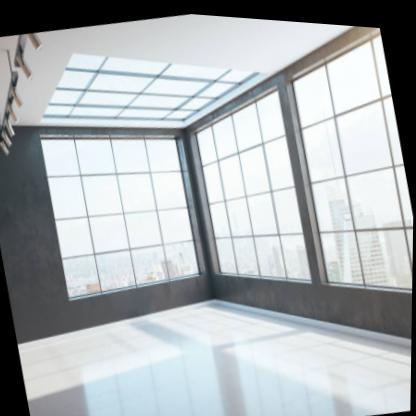Window: (40, 134, 201, 297), (194, 79, 313, 277)
